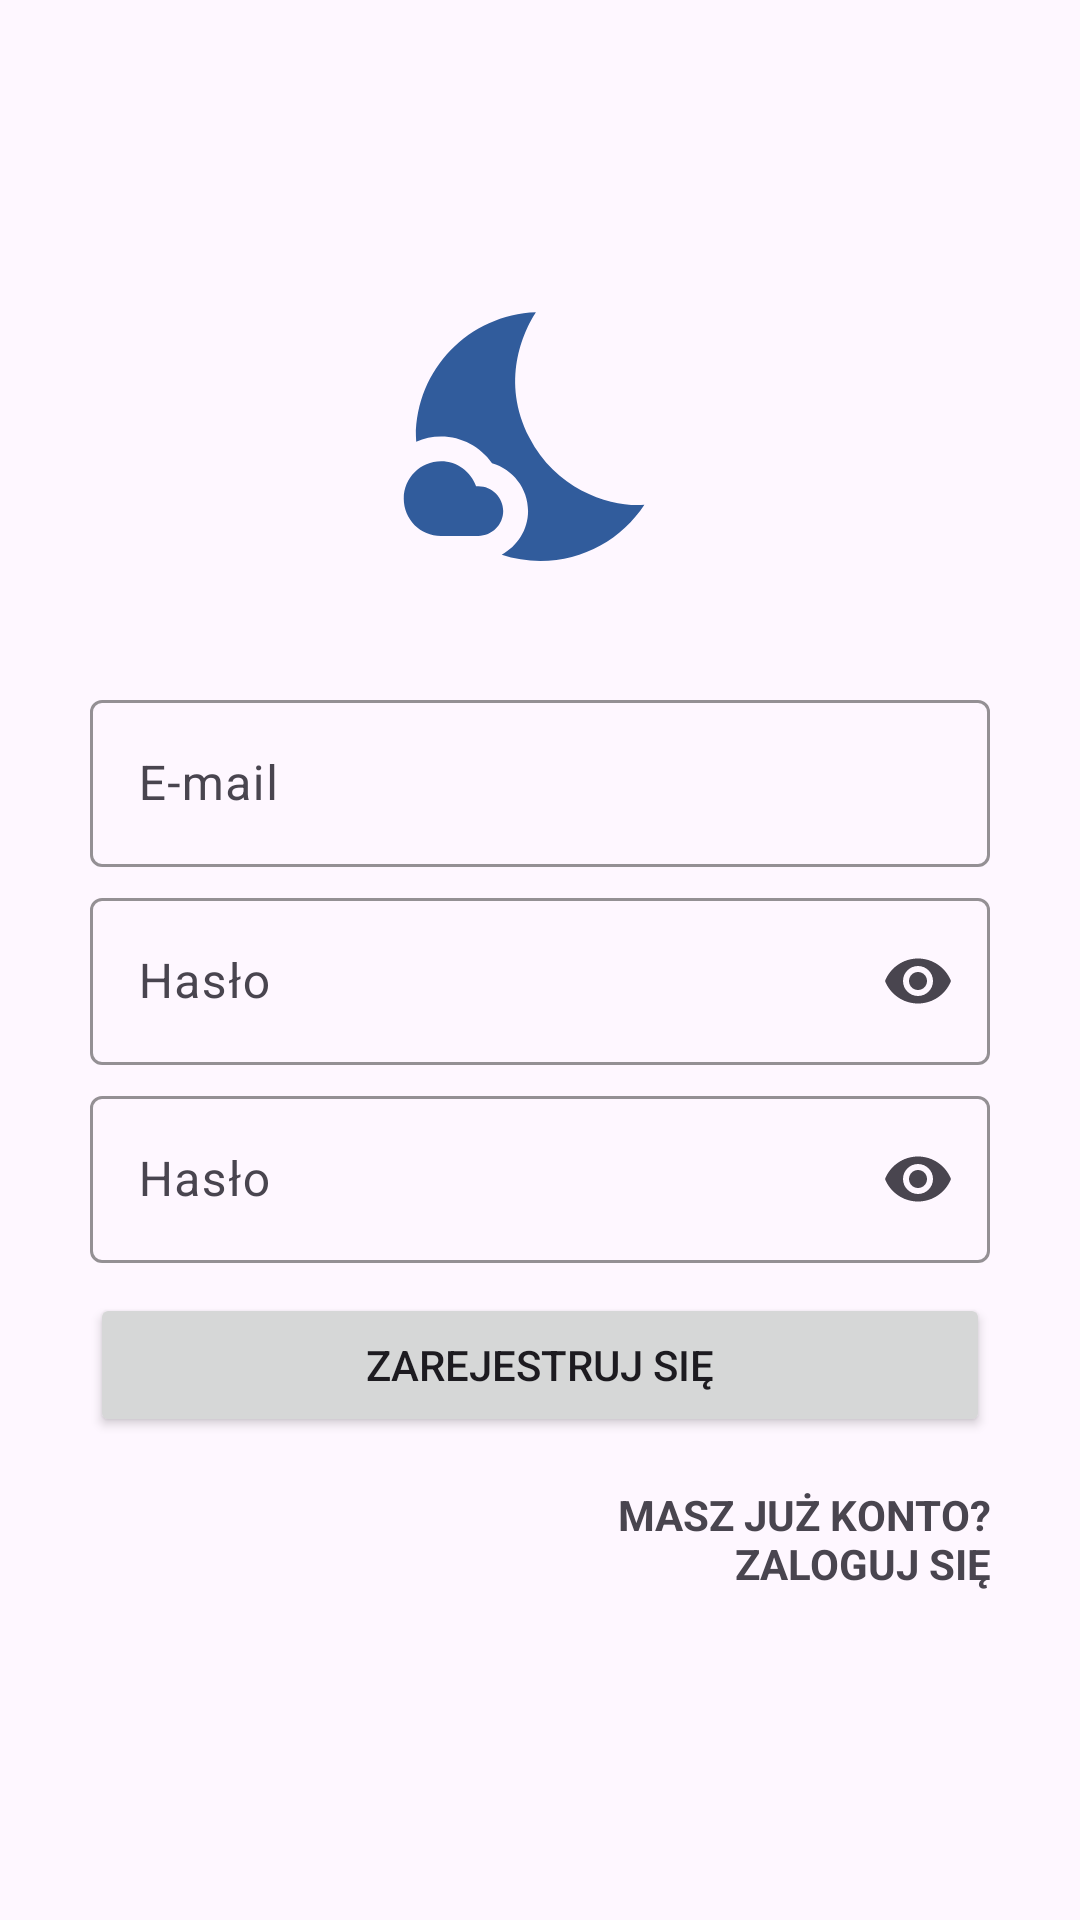

Where to tap for icons on this 1080w x 1920h app screen, as [x,y]:
night: [523,436]
